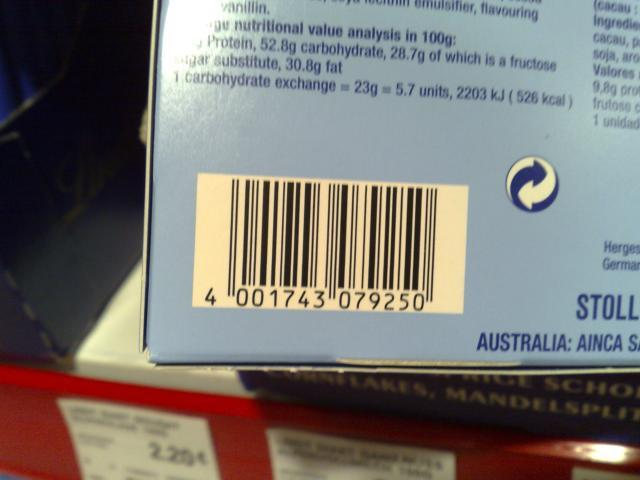Barcode: (193, 181, 446, 315)
